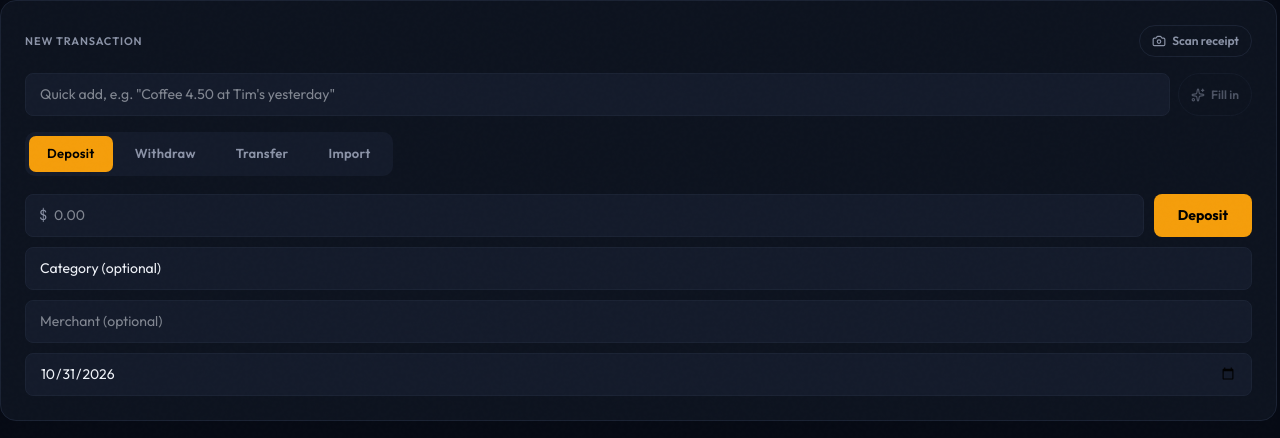
it: NewTransactionForm › auto-fills the category from a matching merchant rule
Withdraw shows expense categories, so "Groceries" is a selectable option.
Click the button "Withdraw" at (165, 154), box [117, 136, 214, 172]
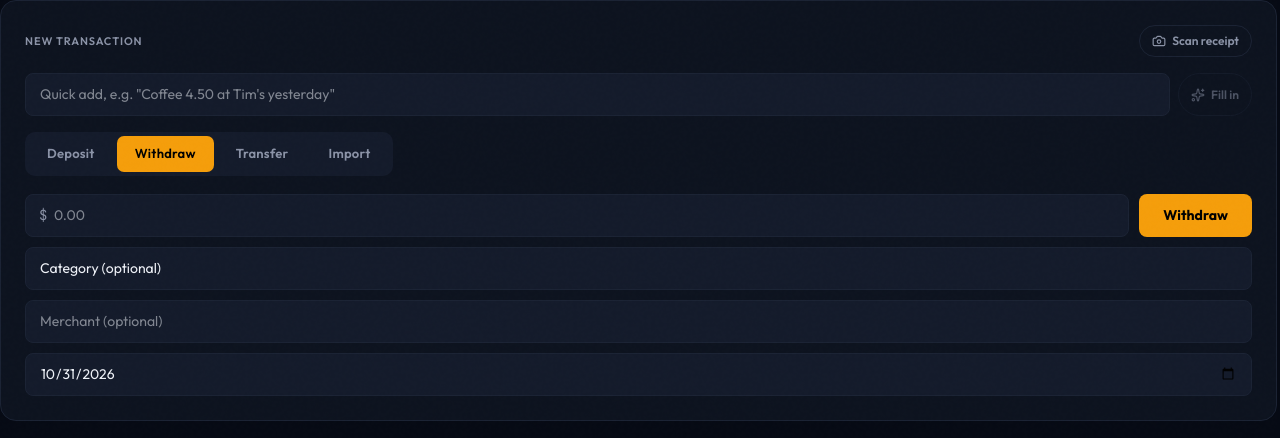
Type "loblaws" into the field with placeholder "Merchant (optional)" at (638, 321), box [25, 300, 1252, 342]
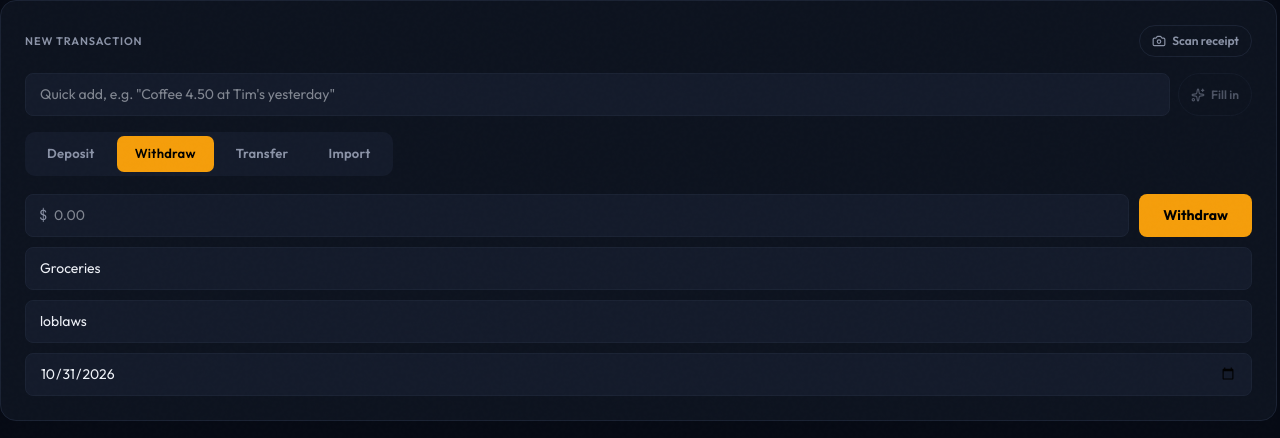
Expected: the dropdown shows "Groceries", [25, 246, 1252, 290]
